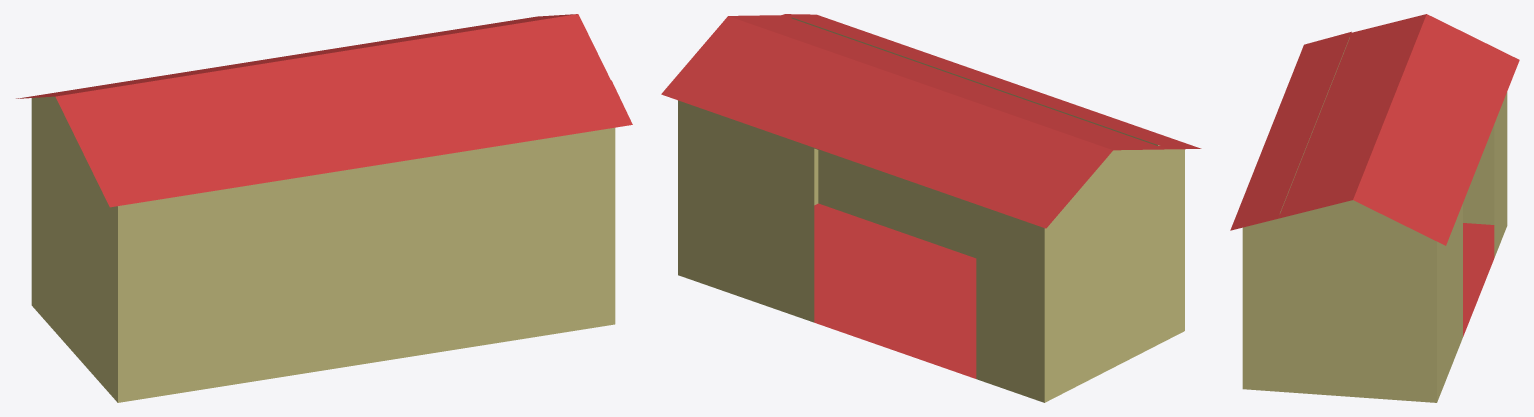
The picture shows the model from 3 angles, left to right: view 1: azimuth 30°, elevation 25°; view 2: azimuth 150°, elevation 25°; view 3: azimuth 270°, elevation 25°; orthographic projection. The views are drawn at different scales.
Size of the model in its own units: 21.84 by 13.28 by 10.2.
